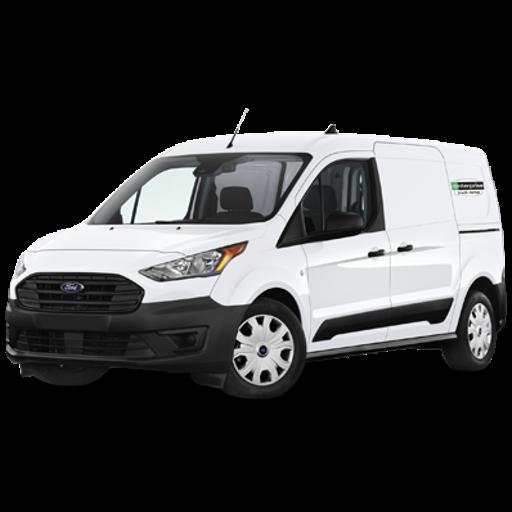van: (6, 127, 505, 396)
